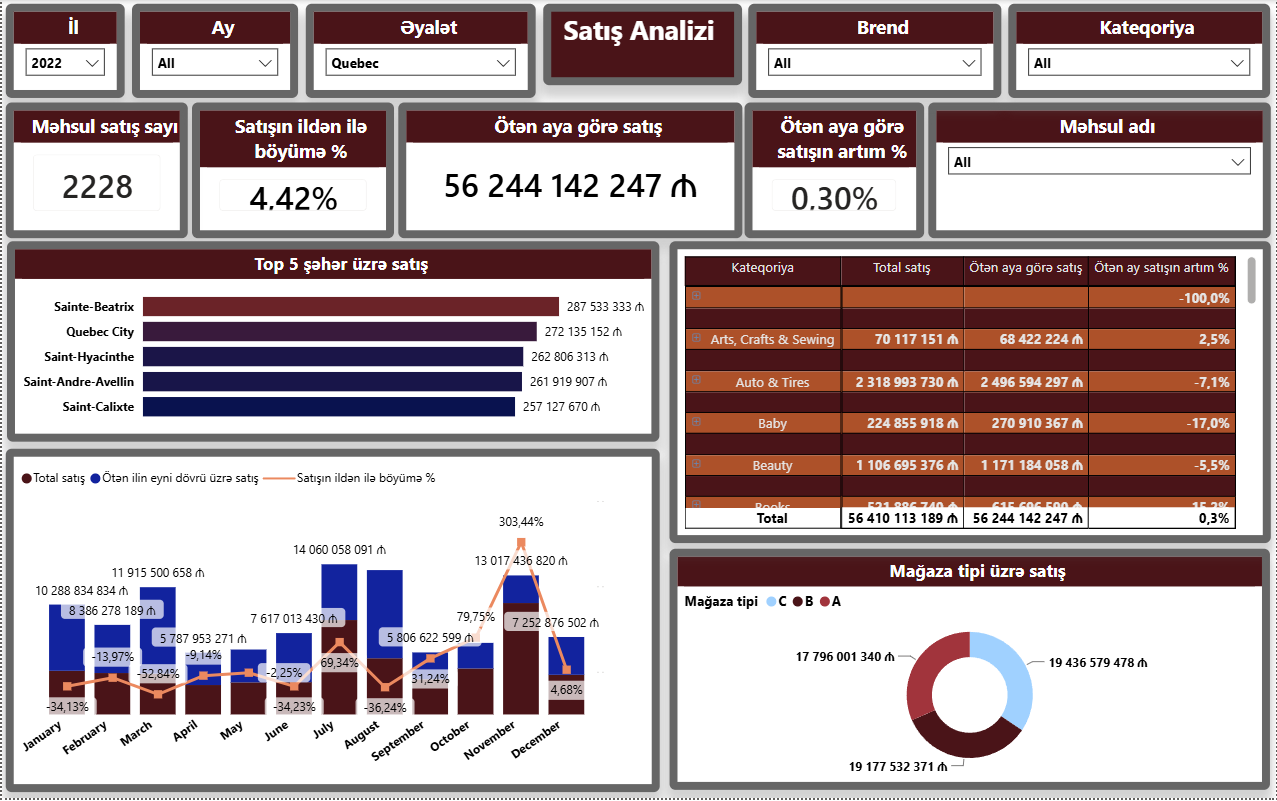

This screenshot's page, from the dashboard's own definition file:
{"tool":"powerbi","page":{"name":"Quebec əyaləti üzrə Satış Analizi ","canvas":[1277,800],"ordinal":1},"visuals":[{"type":"textbox","box":[541.8,4.1,199,81.5],"z":0},{"type":"slicer","title":"İl","fields":{"Values":["Calendar.Date.Variation.Date Hierarchy.Year"]},"box":[4.1,4.1,119.4,94.7],"z":1000},{"type":"slicer","title":"Məhsul adı","fields":{"Values":["Walmart_sku.Məhsul adı"]},"box":[927.6,102.9,343.1,136],"z":2000},{"type":"slicer","title":"Brend","fields":{"Values":["Walmart_sku.Brend"]},"box":[747.6,4.1,253.9,94.7],"z":3000},{"type":"slicer","title":"Ay","fields":{"Values":["Calendar.Date.Variation.Date Hierarchy.Month"]},"box":[130.6,4.1,166,94.7],"z":4000},{"type":"slicer","title":"Kateqoriya","fields":{"Values":["Walmart_sku.Kateqoriya"]},"box":[1008.6,4.1,262.1,94.7],"z":5000},{"type":"slicer","title":"Əyalət","fields":{"Values":["walmart_city.Əyalət"]},"box":[303.8,4.1,230.5,94.7],"z":6000},{"type":"cardVisual","title":"Ötən aya görə satış","fields":{"Data":["Satış Dax.02 Ötən aya görə satış"]},"box":[396.6,102.9,344.4,136],"z":7000},{"type":"cardVisual","title":"Məhsul satış sayı ","fields":{"Data":["Satış Dax.07 Məhsul satış sayı (növ)"]},"box":[4.1,102.9,182.5,136],"z":8000},{"type":"cardVisual","title":"Ötən aya görə satışın artım %","fields":{"Data":["Satış Dax.04 Ötən aya görə satışın artım %"]},"box":[744.1,102.9,179.8,136],"z":9000},{"type":"cardVisual","title":"Satışın ildən ilə böyümə %","fields":{"Data":["Satış Dax.06 Satışın ildən ilə böyümə %"]},"box":[190.7,102.9,202,136],"z":10000},{"type":"donutChart","title":"Mağaza tipi üzrə satış","fields":{"Category":["walmart_sales 2019.Mağaza tipi"],"Y":["Satış Dax.01 Total satış"]},"box":[669,550.1,601.2,241.9],"z":11000},{"type":"clusteredBarChart","title":"Top 5 şəhər üzrə satış","fields":{"Category":["walmart_city.Şəhər"],"Y":["Satış Dax.01 Total satış"]},"box":[5.5,241.9,653.8,201],"z":12000},{"type":"lineStackedColumnComboChart","fields":{"Category":["Calendar.Date.Variation.Date Hierarchy.Month"],"Y":["Satış Dax.01 Total satış","Satış Dax.03 Ötən ilin eyni dövrü üzrə satış"],"Y2":["Satış Dax.06 Satışın ildən ilə böyümə %"]},"box":[4.1,449.2,655.2,344],"z":13000},{"type":"pivotTable","fields":{"Rows":["Walmart_sku.Kateqoriya","Walmart_sku.Alt kateqoriya","Walmart_sku.Məhsul adı"],"Values":["Satış Dax.01 Total satış","Satış Dax.02 Ötən aya görə satış","Satış Dax.04 Ötən aya görə satışın artım %"]},"box":[669,241.9,602.6,302.7],"z":14000}]}

Visuals, with their boxes in screenshot pixels (x1, y1, x2, y2), scaled from the page's 1277x800 canvas onto the 1277x801 screenshot:
textbox: pyautogui.locateOnScreen(542, 4, 741, 86)
"İl" slicer: pyautogui.locateOnScreen(4, 4, 124, 99)
"Məhsul adı" slicer: pyautogui.locateOnScreen(928, 103, 1271, 239)
"Brend" slicer: pyautogui.locateOnScreen(748, 4, 1002, 99)
"Ay" slicer: pyautogui.locateOnScreen(131, 4, 297, 99)
"Kateqoriya" slicer: pyautogui.locateOnScreen(1009, 4, 1271, 99)
"Əyalət" slicer: pyautogui.locateOnScreen(304, 4, 534, 99)
"Ötən aya görə satış" cardVisual: pyautogui.locateOnScreen(397, 103, 741, 239)
"Məhsul satış sayı " cardVisual: pyautogui.locateOnScreen(4, 103, 187, 239)
"Ötən aya görə satışın artım %" cardVisual: pyautogui.locateOnScreen(744, 103, 924, 239)
"Satışın ildən ilə böyümə %" cardVisual: pyautogui.locateOnScreen(191, 103, 393, 239)
"Mağaza tipi üzrə satış" donutChart: pyautogui.locateOnScreen(669, 551, 1270, 793)
"Top 5 şəhər üzrə satış" clusteredBarChart: pyautogui.locateOnScreen(6, 242, 659, 443)
lineStackedColumnComboChart - Calendar.Date.Variation.Date Hierarchy.Month x Satış Dax.01 Total satış: pyautogui.locateOnScreen(4, 450, 659, 794)
pivotTable - Walmart_sku.Kateqoriya x Walmart_sku.Alt kateqoriya: pyautogui.locateOnScreen(669, 242, 1272, 545)
